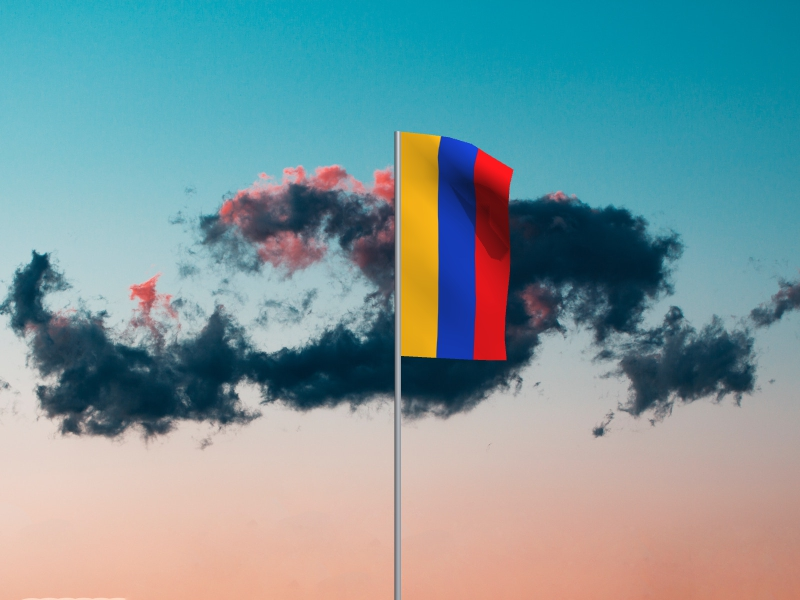am: (401, 132, 515, 363)
